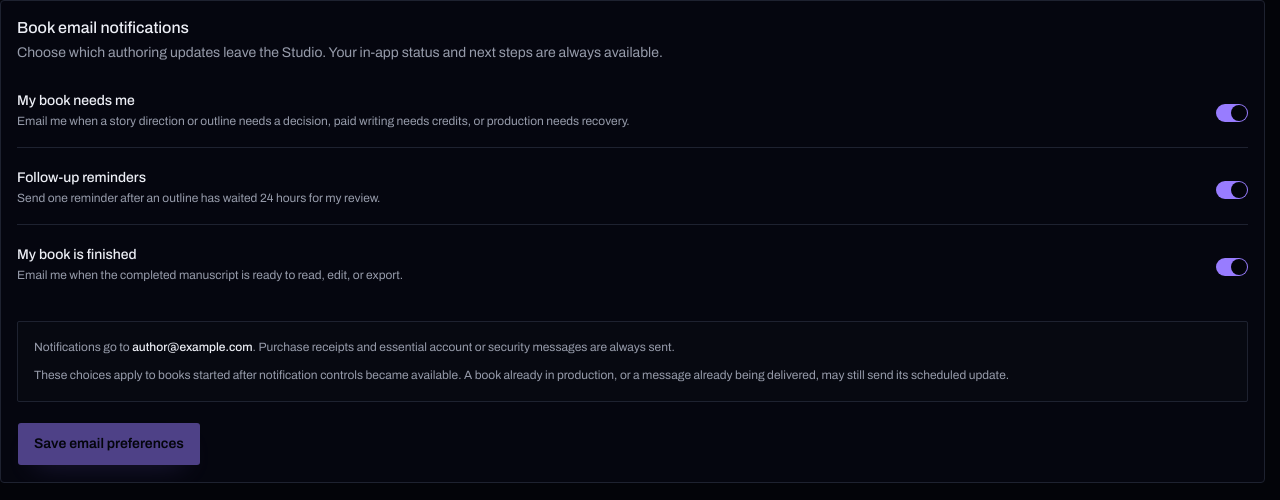
Test case: NotificationPreferencesCard › keeps the intended controls and reports an unconfirmed server response truthfully
Click the switch named "Follow-up reminders" at coordinates (1232, 190), box x1=1216 y1=181 x2=1248 y2=199
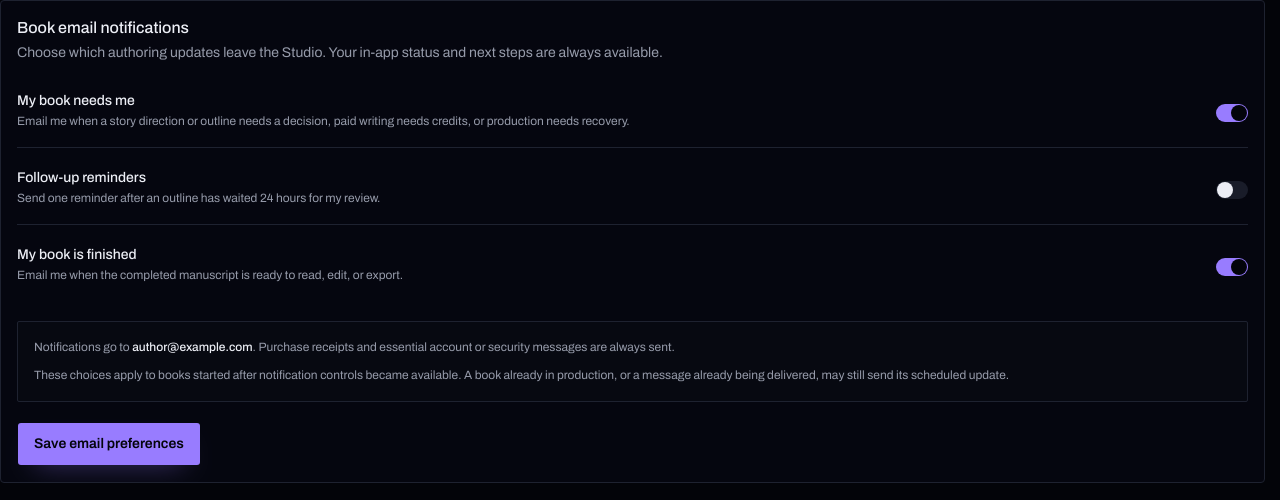
Check: the switch named "Follow-up reminders" is not checked, box x1=1216 y1=181 x2=1248 y2=199
Click the button "Save email preferences" at coordinates (109, 444), box x1=17 y1=422 x2=201 y2=466
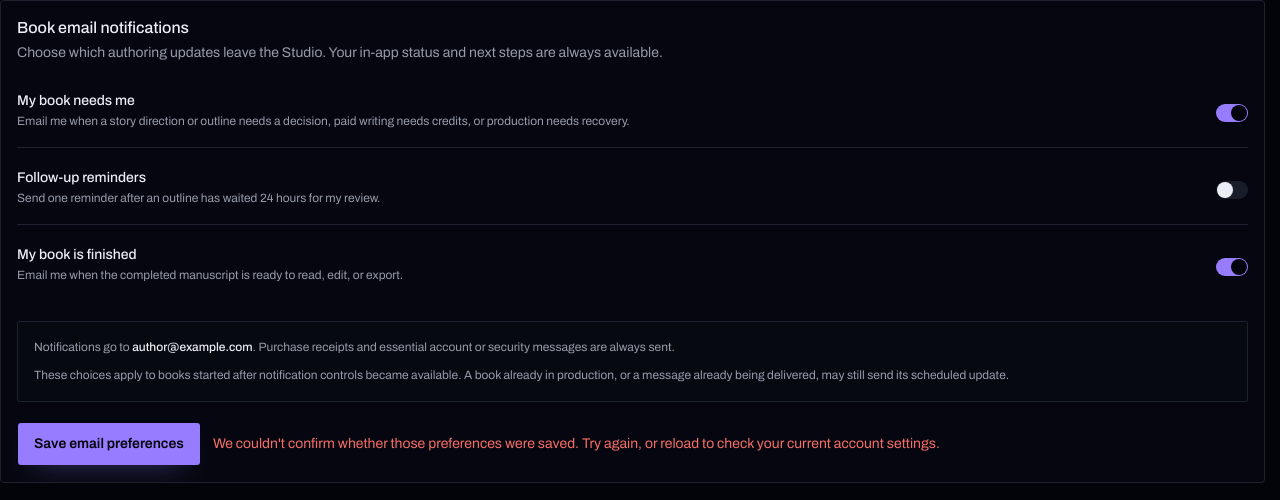
Check: the switch named "Follow-up reminders" is not checked, box x1=1216 y1=181 x2=1248 y2=199
Check: the button "Save email preferences" is enabled, box x1=17 y1=422 x2=201 y2=466
Check: the message shows "couldn't confirm whether those preferences were saved", box x1=213 y1=436 x2=940 y2=451
